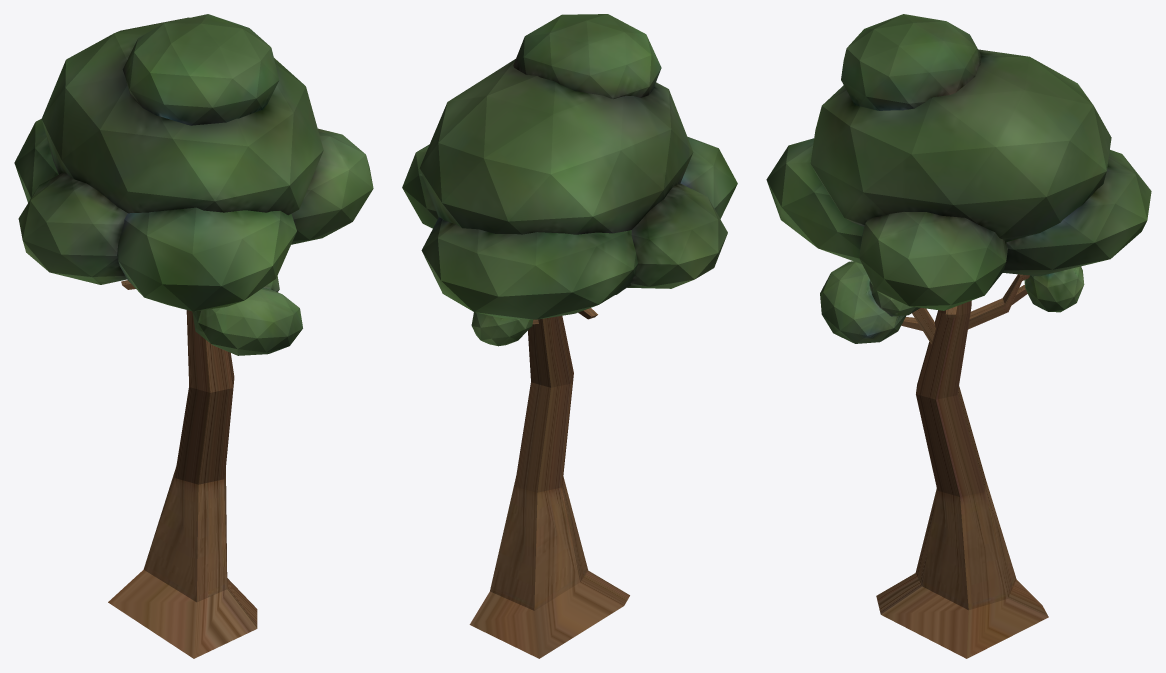
Rendered from CityKit_TallTree.fbx.
The picture shows the model from 3 angles, left to right: view 1: azimuth 30°, elevation 25°; view 2: azimuth 150°, elevation 25°; view 3: azimuth 270°, elevation 25°; orthographic projection. The views are drawn at different scales.
Visible parts, largest first — view 1: TallTree; view 2: TallTree; view 3: TallTree.
Part boxes in pixels (box(x1,y1,x2,y2)): TallTree: box(14, 14, 373, 658); TallTree: box(402, 14, 737, 658); TallTree: box(766, 14, 1151, 658).
Bounding box in the file's own units: 832 × 1486 × 869.
Materials: 1 (1 with a texture image).
